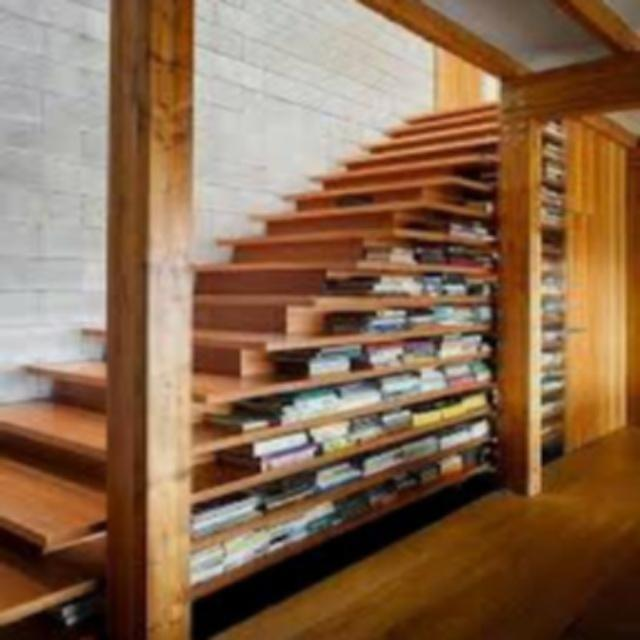stair: (3, 58, 551, 630)
